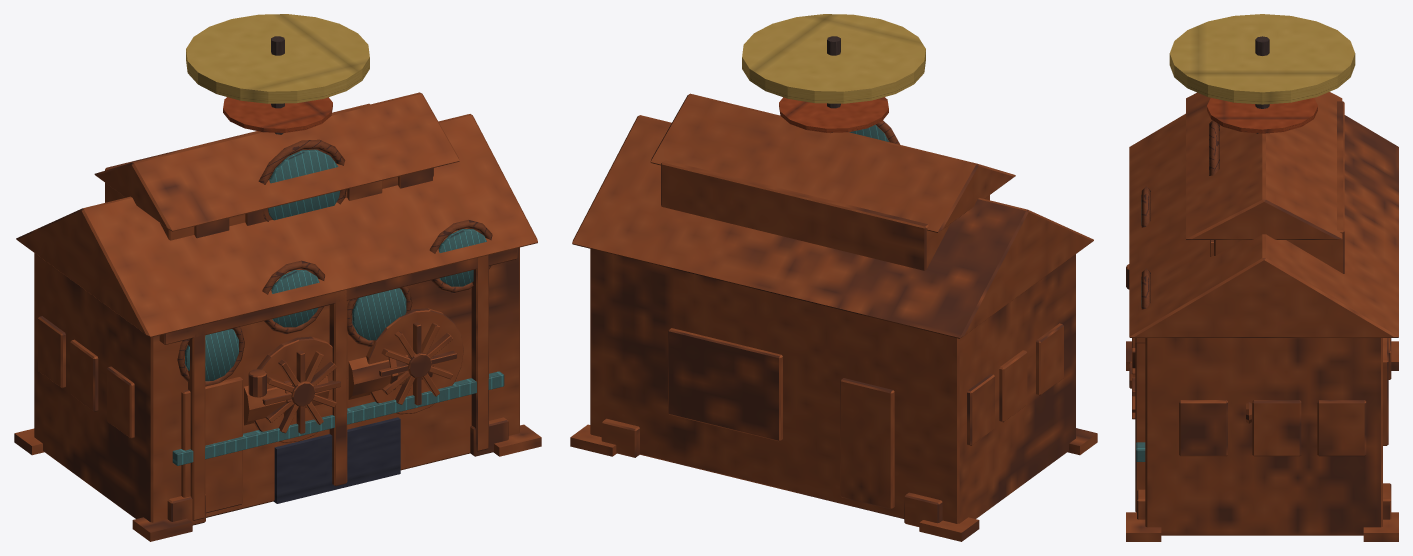
File: dynamo-hall.e10.glb
3 renders of one model, left to right at view 1: azimuth 30°, elevation 25°; view 2: azimuth 150°, elevation 25°; view 3: azimuth 270°, elevation 25°, orthographic.
Parts seen in each view (by area): view 1: DynamoHallE10EngineDeck; view 2: DynamoHallE10EngineDeck; view 3: DynamoHallE10EngineDeck.
Part boxes in pixels (box(x1,y1,x2,y2)): DynamoHallE10EngineDeck: box(14, 14, 541, 541); DynamoHallE10EngineDeck: box(570, 14, 1097, 541); DynamoHallE10EngineDeck: box(1126, 14, 1398, 541).
Size of the model in its own units: 5.38 by 5.32 by 3.24.
Materials: 1 (1 with a texture image).
